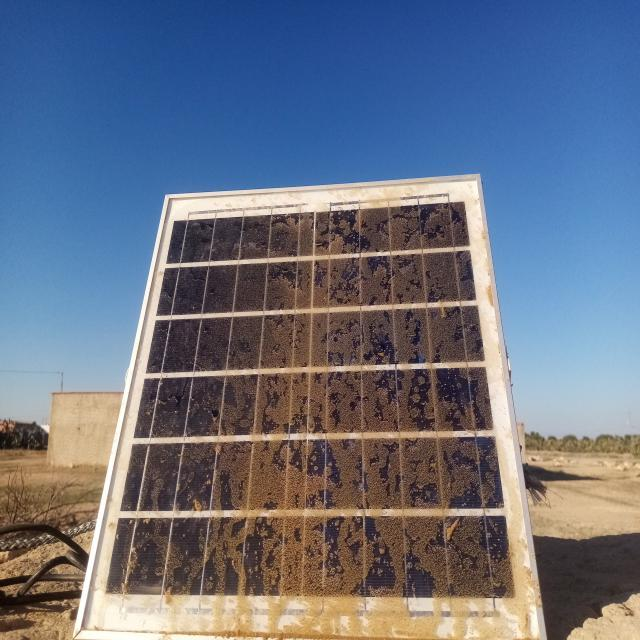faulty: (75, 176, 545, 637)
